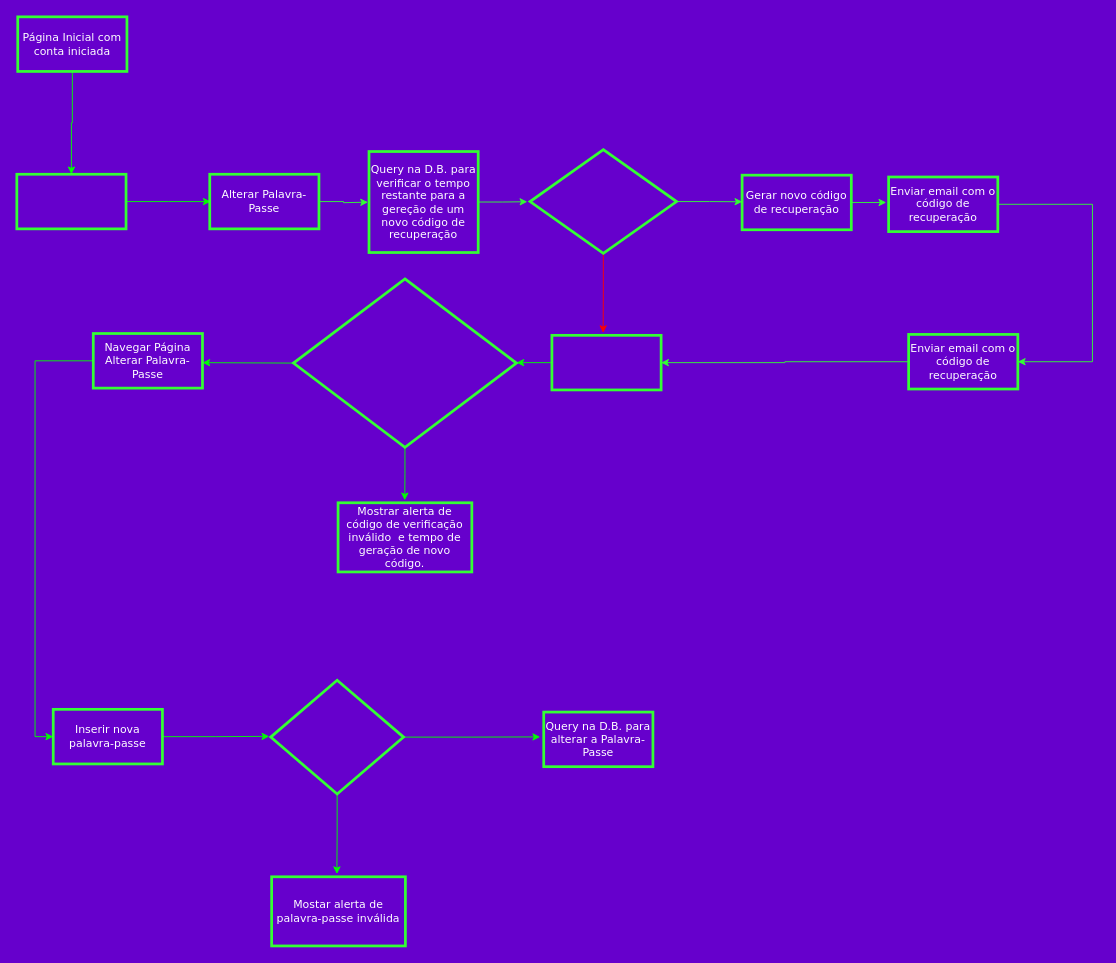
This 1116x963 diagram has some shape labels left out. Each missing label, with the centre of its shape:
Código de Recuperação Inserido = Código de Recuperação Associado: point 404,362
Editar Pefil: point 71,201
Navegar Página Inserir Código de Verificação: point 606,362
Palavra-Passe Válida: point 336,736
Tempo Restante > 10: point 602,201
